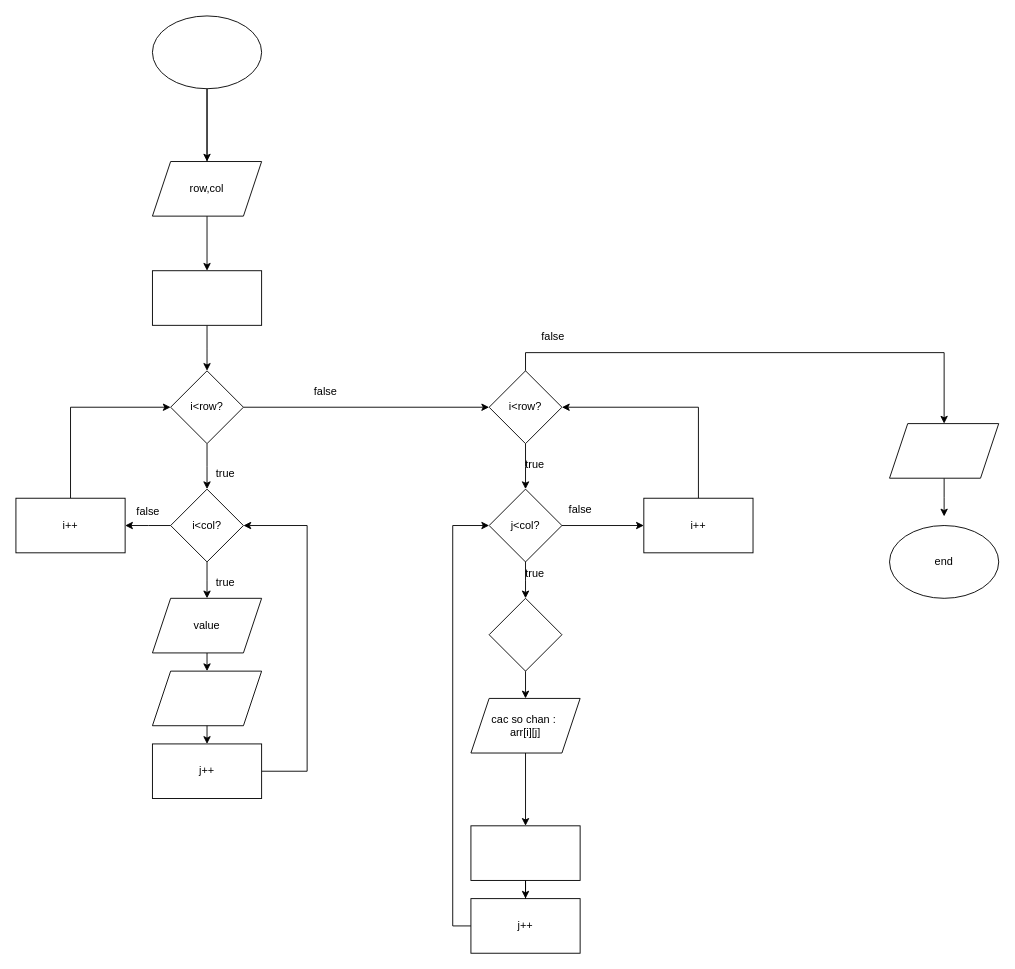
Image size: 1015x969. Some labels were removed from this diagram. Here are the shapes that lost their labels. From the top down, the box of each, then its label:
(152, 15, 262, 89): start
(152, 270, 262, 325): i,j arr[row][col], sumNumber
(889, 423, 999, 478): sumNumber
(488, 597, 562, 671): if arr[i][j]%2==0?
(152, 670, 262, 726): arr[i][j]=value
(470, 825, 580, 880): sumNumber=sumNumber +arr[i][j]
